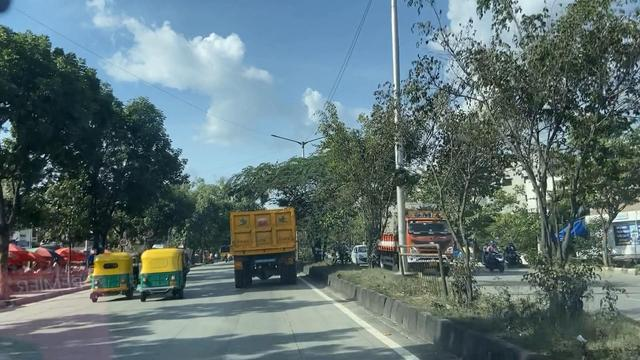HMV: (230, 210, 301, 285)
LMV: (90, 253, 143, 299), (145, 245, 186, 299)
